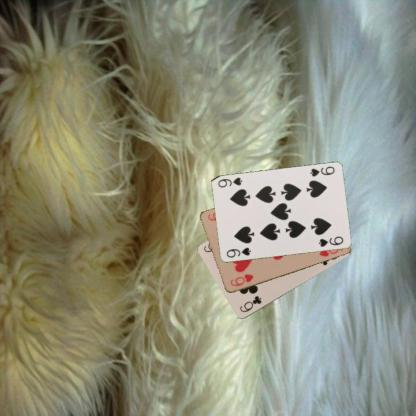6c: (237, 294, 263, 314)
6h: (228, 272, 255, 288)
9s: (307, 163, 336, 178), (224, 245, 252, 259)
